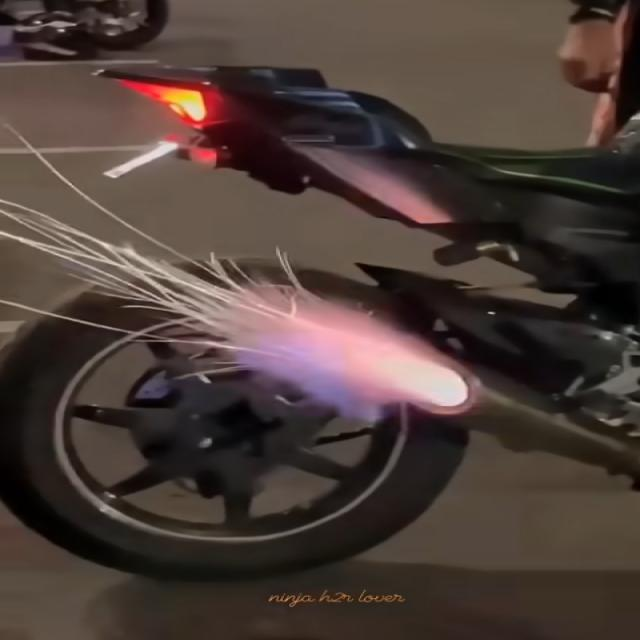fire: (222, 282, 467, 424)
